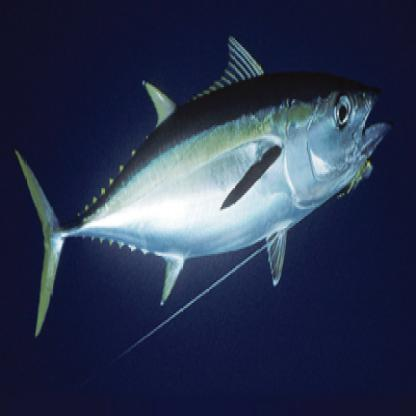Bio: (12, 27, 392, 341)
